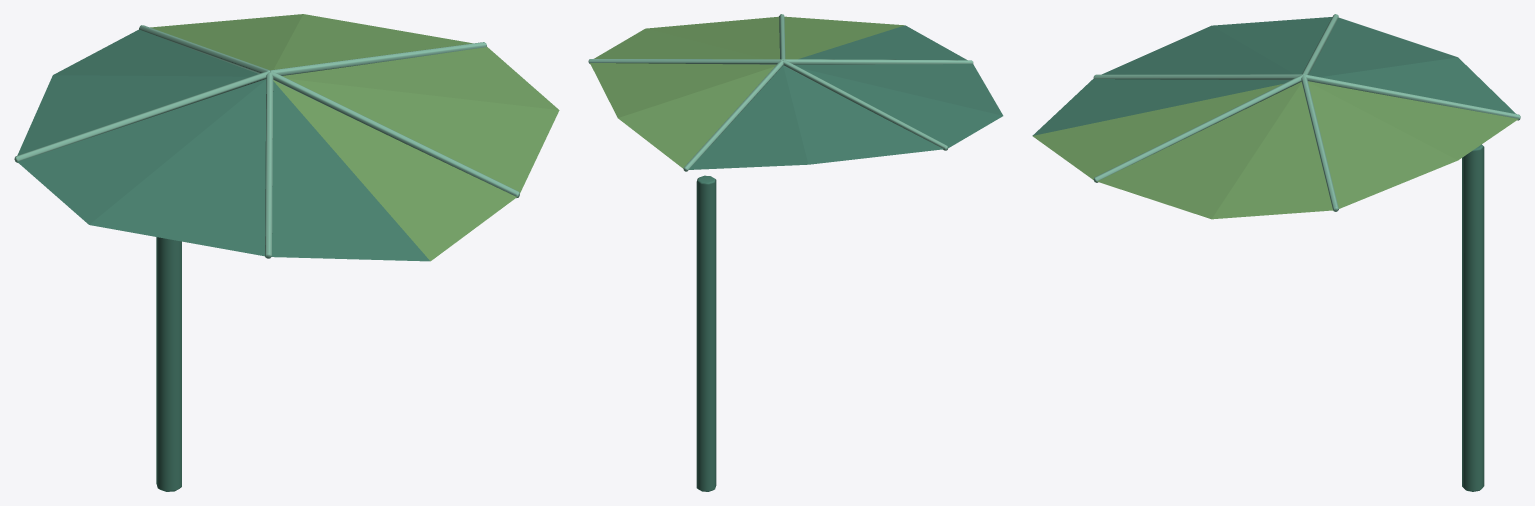
Rendered from shade_leaf.glb.
3 views of the same model, side by side, from view 1: azimuth 30°, elevation 25°; view 2: azimuth 150°, elevation 25°; view 3: azimuth 270°, elevation 25° (orthographic). The views are drawn at different scales.
Visible parts, largest first — view 1: shade_leaf; view 2: shade_leaf; view 3: shade_leaf.
Boxes of the visible parts, x1,y1,x2,y2 form: shade_leaf: (14, 14, 559, 491); shade_leaf: (588, 14, 1003, 491); shade_leaf: (1032, 14, 1520, 491).
Bounding box in the file's own units: 1.84 × 1.83 × 1.96.
